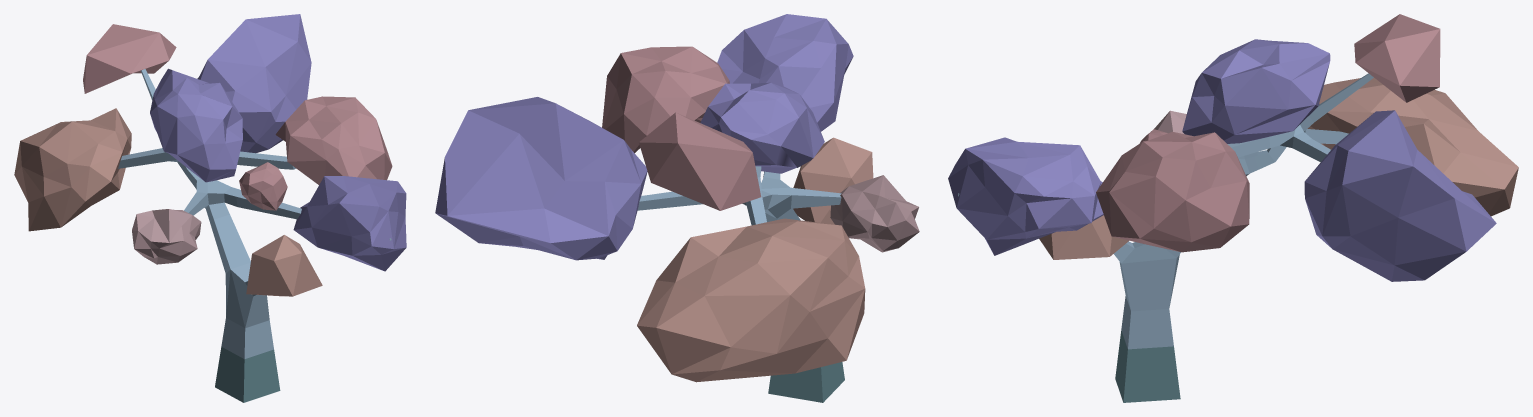
The model's file is arbol02.fbx.
3 renders of one model, left to right at view 1: azimuth 30°, elevation 25°; view 2: azimuth 150°, elevation 25°; view 3: azimuth 270°, elevation 25°, orthographic. The views are drawn at different scales.
Parts seen in each view (by area): view 1: arbol02, Arbol02 Hojas07, Arbol02 Hojas02, Arbol02 Hojas04, Arbol02 Hojas01, Arbol02 Hojas05, Arbol02 Hojas06, Arbol02 Hojas03, Arbol02 Hojas09, Arbol02 Hojas08; view 2: Arbol02 Hojas02, Arbol02 Hojas07, Arbol02 Hojas04, Arbol02 Hojas05, Arbol02 Hojas06, Arbol02 Hojas01, arbol02, Arbol02 Hojas09, Arbol02 Hojas03; view 3: Arbol02 Hojas07, Arbol02 Hojas05, Arbol02 Hojas04, arbol02, Arbol02 Hojas01, Arbol02 Hojas02, Arbol02 Hojas06, Arbol02 Hojas03, Arbol02 Hojas09.
Part boxes in pixels (x1,y1,x2,y2): arbol02: [118, 69, 391, 402]; Arbol02 Hojas07: [197, 14, 311, 153]; Arbol02 Hojas02: [14, 108, 131, 231]; Arbol02 Hojas04: [293, 176, 406, 271]; Arbol02 Hojas01: [150, 68, 242, 182]; Arbol02 Hojas05: [275, 96, 392, 184]; Arbol02 Hojas06: [83, 24, 176, 93]; Arbol02 Hojas03: [246, 235, 322, 296]; Arbol02 Hojas09: [132, 209, 201, 264]; Arbol02 Hojas08: [239, 162, 287, 210]; Arbol02 Hojas02: [637, 218, 865, 382]; Arbol02 Hojas07: [435, 97, 647, 260]; Arbol02 Hojas04: [717, 14, 853, 131]; Arbol02 Hojas05: [602, 46, 729, 153]; Arbol02 Hojas06: [639, 112, 761, 210]; Arbol02 Hojas01: [700, 82, 824, 173]; arbol02: [637, 166, 844, 402]; Arbol02 Hojas09: [830, 175, 919, 252]; Arbol02 Hojas03: [793, 137, 873, 224]; Arbol02 Hojas07: [1304, 110, 1496, 281]; Arbol02 Hojas05: [1096, 131, 1249, 252]; Arbol02 Hojas04: [948, 137, 1103, 255]; arbol02: [958, 73, 1373, 402]; Arbol02 Hojas01: [1182, 39, 1330, 143]; Arbol02 Hojas02: [1307, 78, 1518, 216]; Arbol02 Hojas06: [1354, 14, 1440, 102]; Arbol02 Hojas03: [1039, 215, 1128, 259]; Arbol02 Hojas09: [1154, 110, 1186, 134].
Size of the model in its own units: 358 by 337 by 494.
